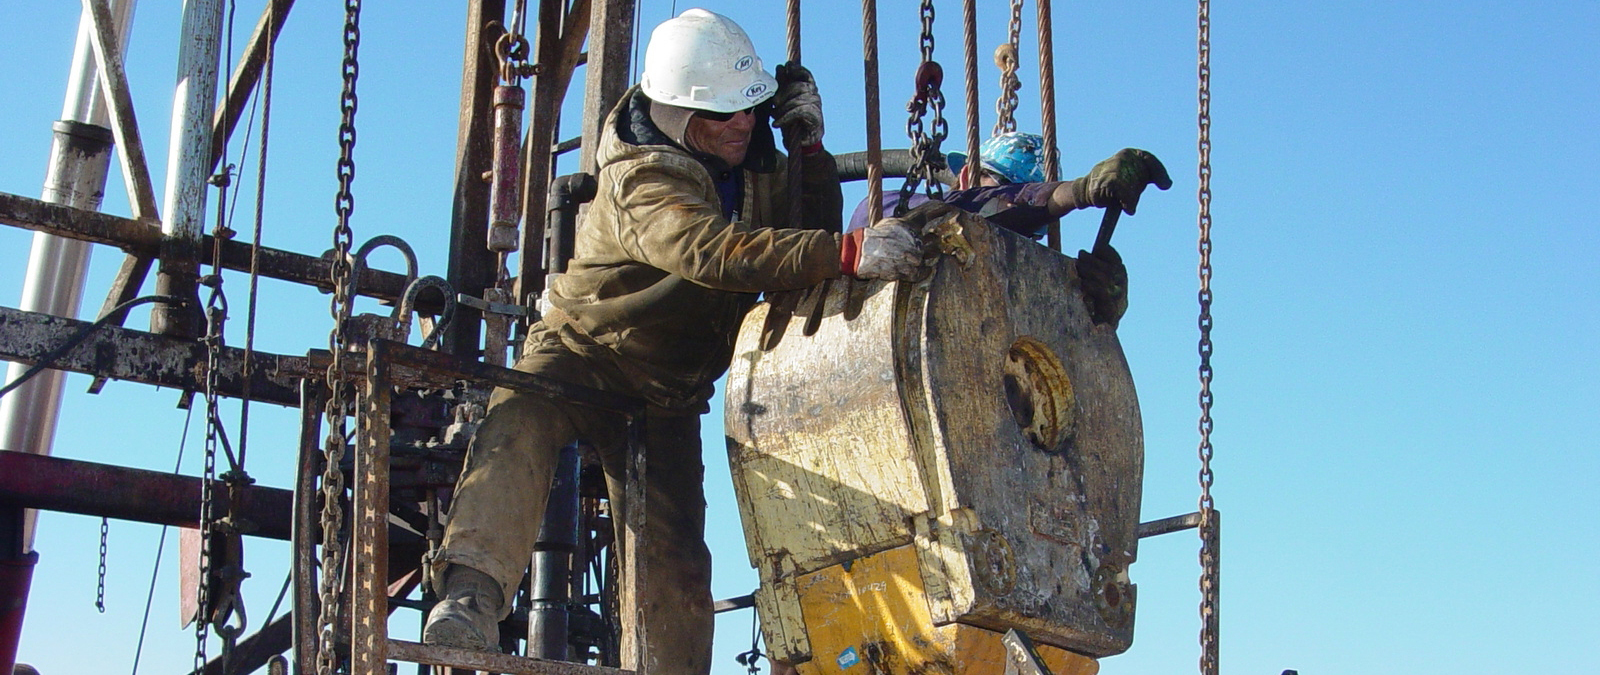epi: (436, 6, 870, 675)
